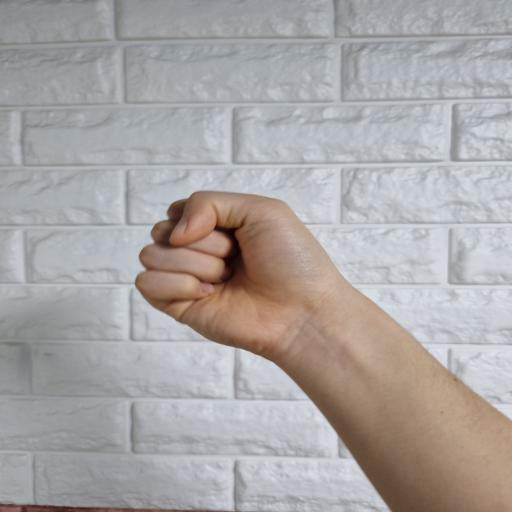Rock: (132, 188, 348, 354)
